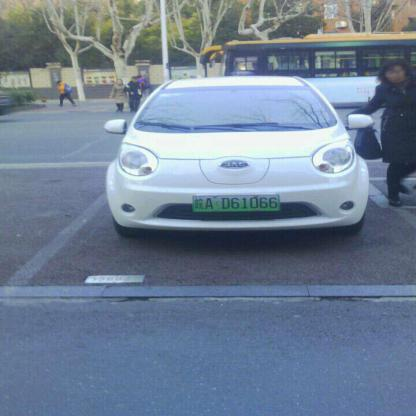lp: (194, 195, 280, 211)
